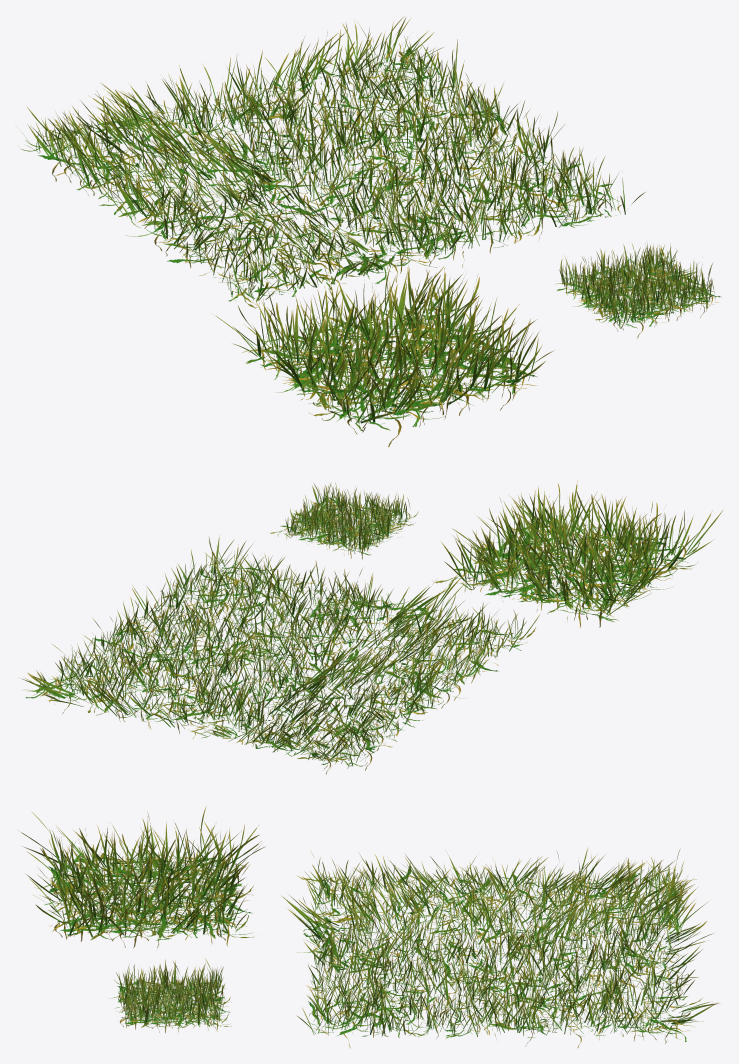
The model's file is grass_patches_-_squares.glb.
3 renders of one model, top to bottom at view 1: azimuth 30°, elevation 25°; view 2: azimuth 150°, elevation 25°; view 3: azimuth 270°, elevation 25°, orthographic. The views are drawn at different scales.
Visible parts, largest first — view 1: GrassEmitterCircleMesh.005|BR_MainGrass_Diff.034|Dupli|385.1 (×4); view 2: GrassEmitterCircleMesh.005|BR_MainGrass_Diff.034|Dupli|385.1 (×4); view 3: GrassEmitterCircleMesh.005|BR_MainGrass_Diff.034|Dupli|385.1 (×4).
Boxes of the visible parts, x1,y1,x2,y2 form: GrassEmitterCircleMesh.005|BR_MainGrass_Diff.034|Dupli|385.1 (×4): [18, 16, 720, 447]; GrassEmitterCircleMesh.005|BR_MainGrass_Diff.034|Dupli|385.1 (×4): [21, 480, 722, 774]; GrassEmitterCircleMesh.005|BR_MainGrass_Diff.034|Dupli|385.1 (×4): [18, 806, 719, 1048].
Bounding box in the file's own units: 11.86 × 1.88 × 18.01.
1 material, 1 textured.
